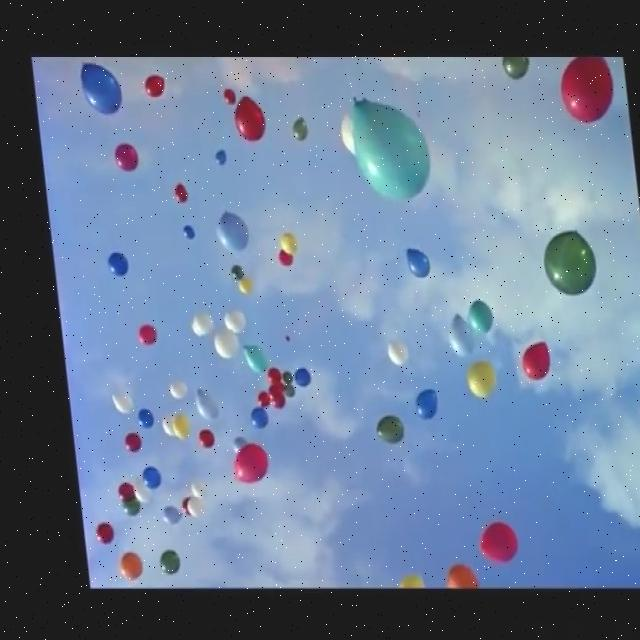balloon: (345, 96, 430, 202), (555, 56, 615, 124), (534, 230, 592, 296), (77, 62, 121, 114), (464, 522, 507, 564), (436, 314, 471, 356), (467, 524, 503, 562), (230, 97, 261, 141), (211, 211, 243, 253), (223, 450, 258, 486), (511, 342, 543, 379), (456, 359, 486, 398), (393, 248, 427, 276), (186, 386, 211, 422), (431, 564, 465, 590), (430, 562, 464, 588), (458, 299, 483, 332), (363, 416, 393, 443), (202, 330, 230, 358), (103, 552, 128, 580), (500, 56, 529, 80), (376, 338, 400, 364), (110, 146, 134, 170), (404, 392, 428, 416), (143, 549, 167, 573), (100, 250, 122, 276), (235, 342, 255, 370), (179, 314, 206, 334), (127, 325, 150, 348), (127, 466, 151, 488), (97, 390, 123, 410), (271, 232, 293, 255), (383, 570, 410, 588), (259, 384, 277, 409), (145, 509, 174, 523), (217, 312, 237, 332), (121, 479, 139, 500), (82, 520, 99, 542), (186, 430, 204, 450), (285, 370, 304, 388), (229, 278, 250, 294), (158, 378, 172, 401), (169, 499, 189, 515), (163, 418, 176, 442), (237, 410, 256, 426), (289, 120, 304, 140), (168, 185, 185, 202), (127, 407, 143, 425), (176, 480, 194, 496), (144, 80, 161, 96), (269, 251, 287, 266), (102, 486, 124, 498), (113, 435, 130, 450), (208, 150, 223, 166), (152, 415, 165, 433), (221, 263, 235, 279), (109, 502, 125, 516), (258, 365, 270, 383), (244, 394, 259, 408), (220, 433, 231, 452), (175, 227, 190, 240), (216, 88, 231, 100), (275, 386, 286, 398), (271, 370, 282, 382)
